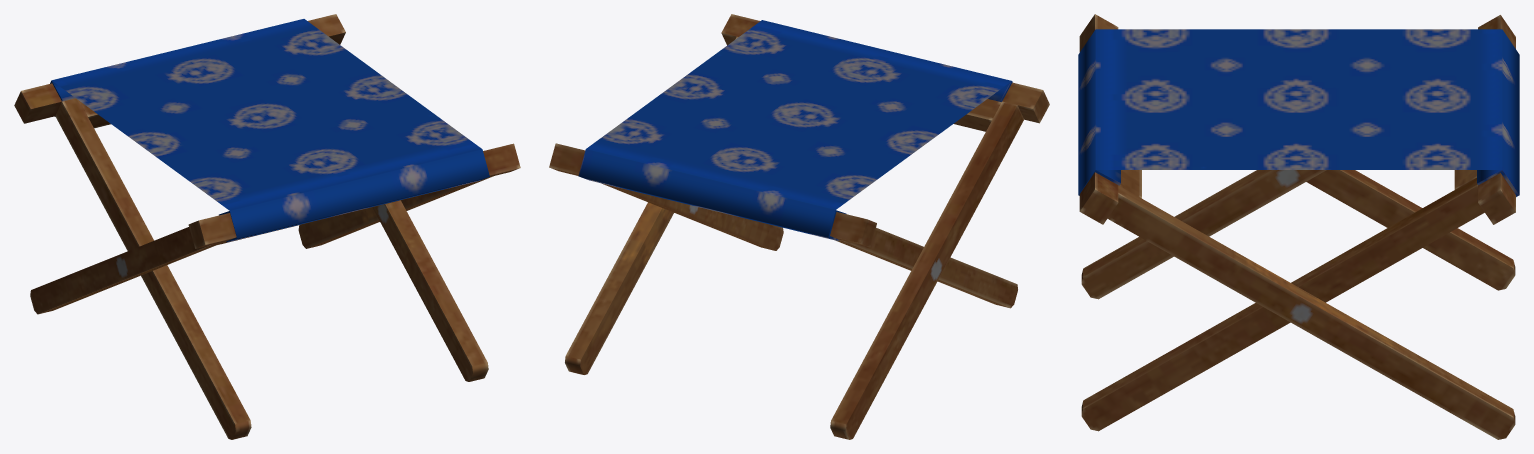
File: pi_chair01_dlc2_01_01.gltf
The picture shows the model from 3 angles, left to right: view 1: azimuth 30°, elevation 25°; view 2: azimuth 150°, elevation 25°; view 3: azimuth 270°, elevation 25°; orthographic projection. The views are drawn at different scales.
Visible parts, largest first — view 1: pi_chair01_dlc2_01_01_mesh_shape:pi_chair01_dlc2_1_main; view 2: pi_chair01_dlc2_01_01_mesh_shape:pi_chair01_dlc2_1_main; view 3: pi_chair01_dlc2_01_01_mesh_shape:pi_chair01_dlc2_1_main.
Boxes of the visible parts, box(x1,y1,x2,y2) form: pi_chair01_dlc2_01_01_mesh_shape:pi_chair01_dlc2_1_main: box(14, 14, 520, 439); pi_chair01_dlc2_01_01_mesh_shape:pi_chair01_dlc2_1_main: box(549, 14, 1049, 439); pi_chair01_dlc2_01_01_mesh_shape:pi_chair01_dlc2_1_main: box(1078, 14, 1519, 439).
Size of what is drawn, in the model's own units: 0.4989 by 0.3463 by 0.53.
Materials: 1 (1 with a texture image).
